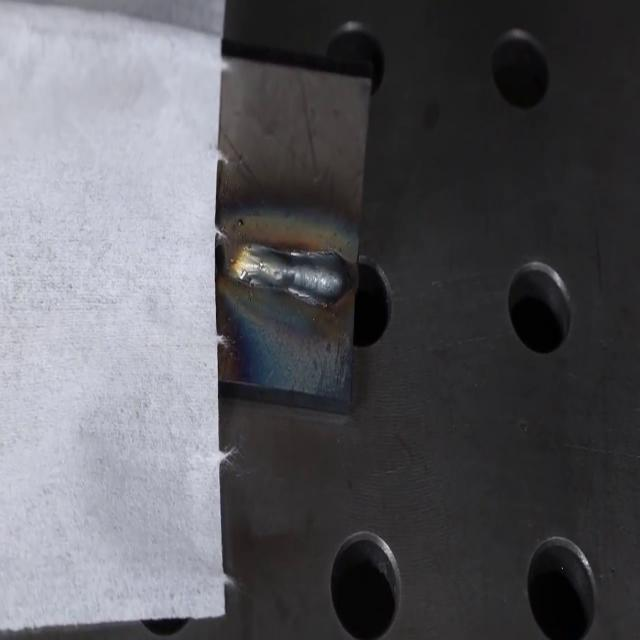Bad Welding: (225, 236, 355, 310)
